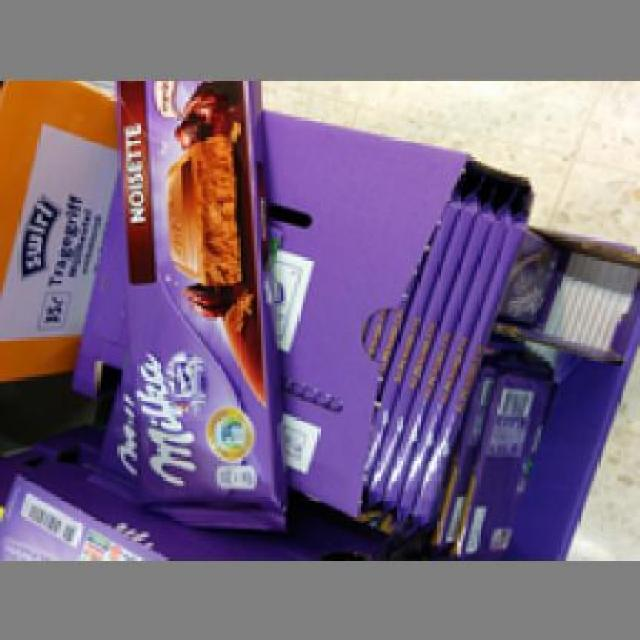Chocolate: (105, 77, 281, 517), (457, 366, 540, 554)
